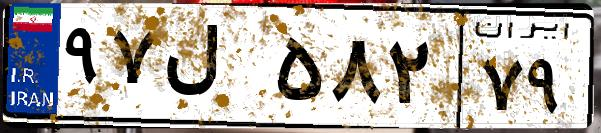2: (385, 28, 445, 110)
5: (270, 28, 330, 110)
7: (475, 38, 525, 113), (110, 28, 158, 98)
8: (330, 28, 385, 110)
9: (57, 26, 110, 100), (525, 38, 570, 115)
ل: (158, 20, 270, 120)
